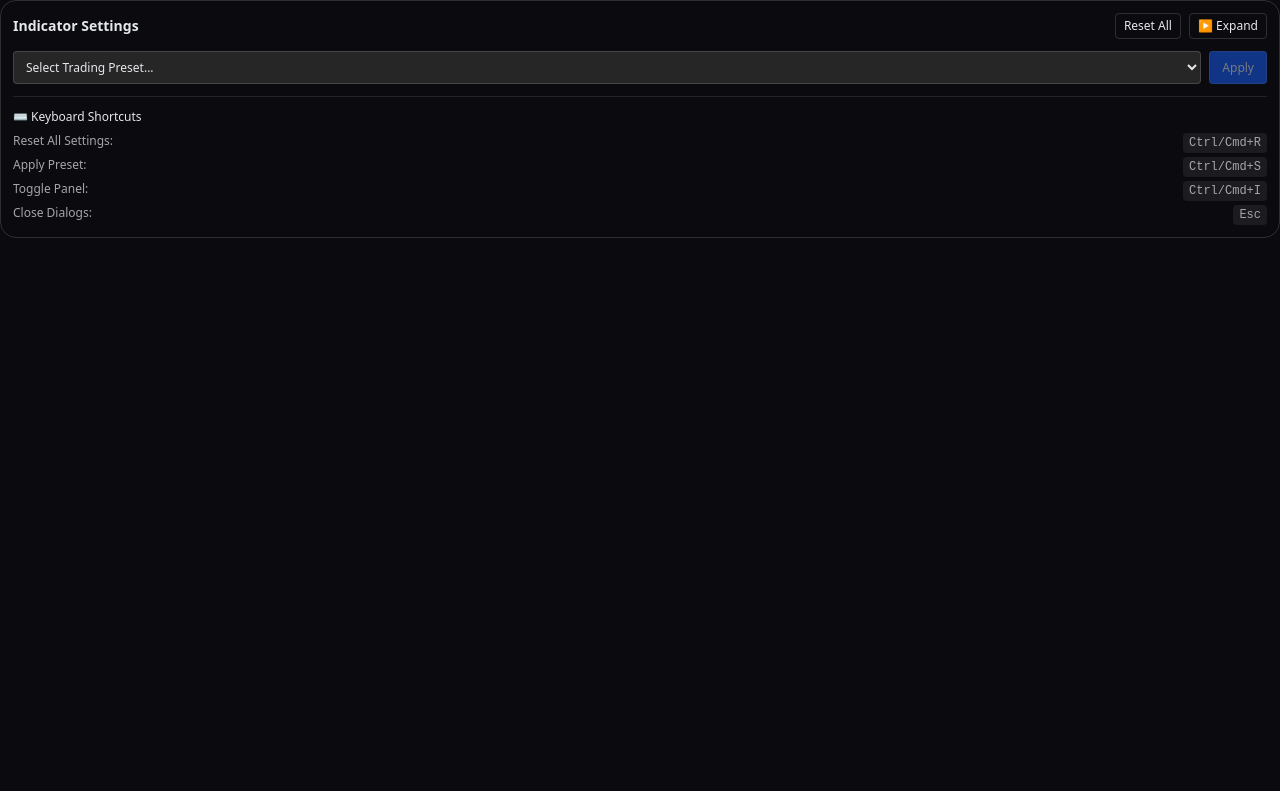
Test: IndicatorControlsPanel › Expand/Collapse Functionality › should expand panel when clicking expand button
The width and height of the screenshot is (1280, 791).
Click the button "▶ Expand": (1228, 26) [1189, 13, 1267, 39]
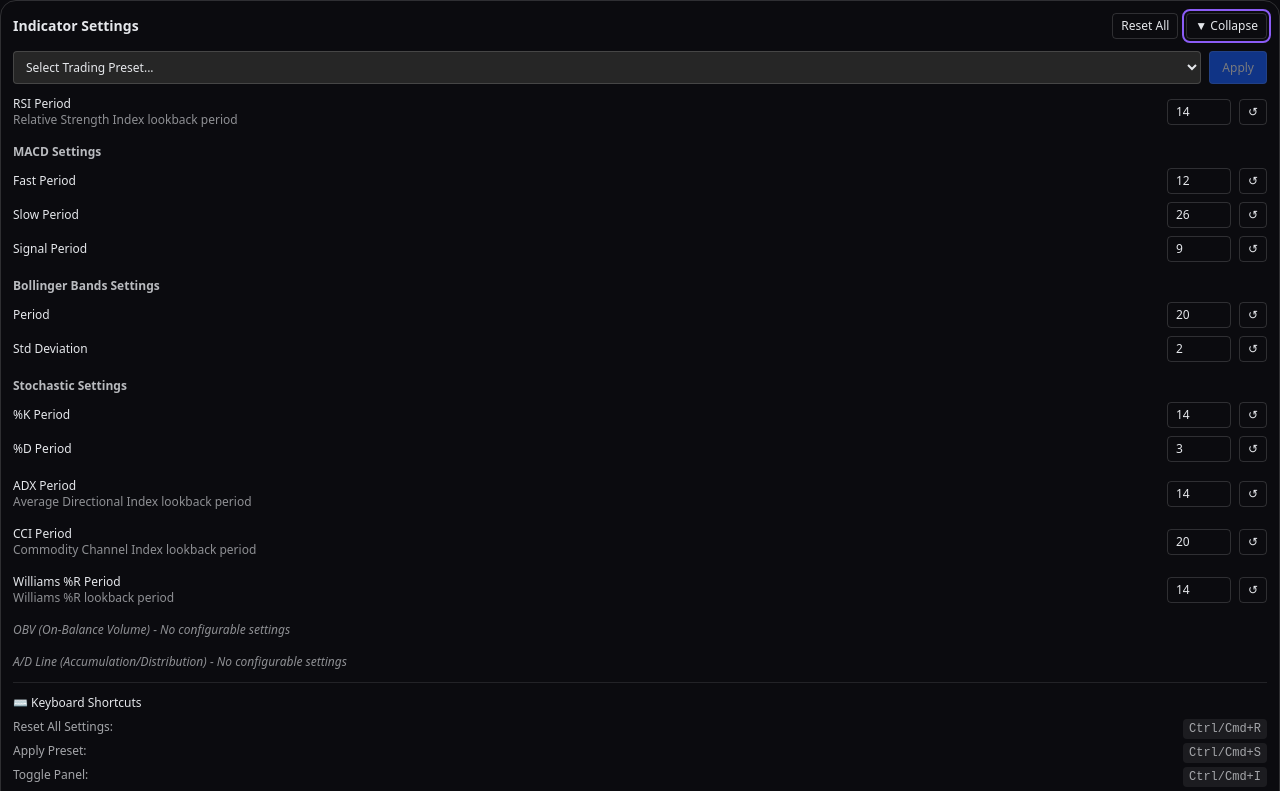
Result: the text "RSI Period" is shown at [13, 95, 71, 112]
